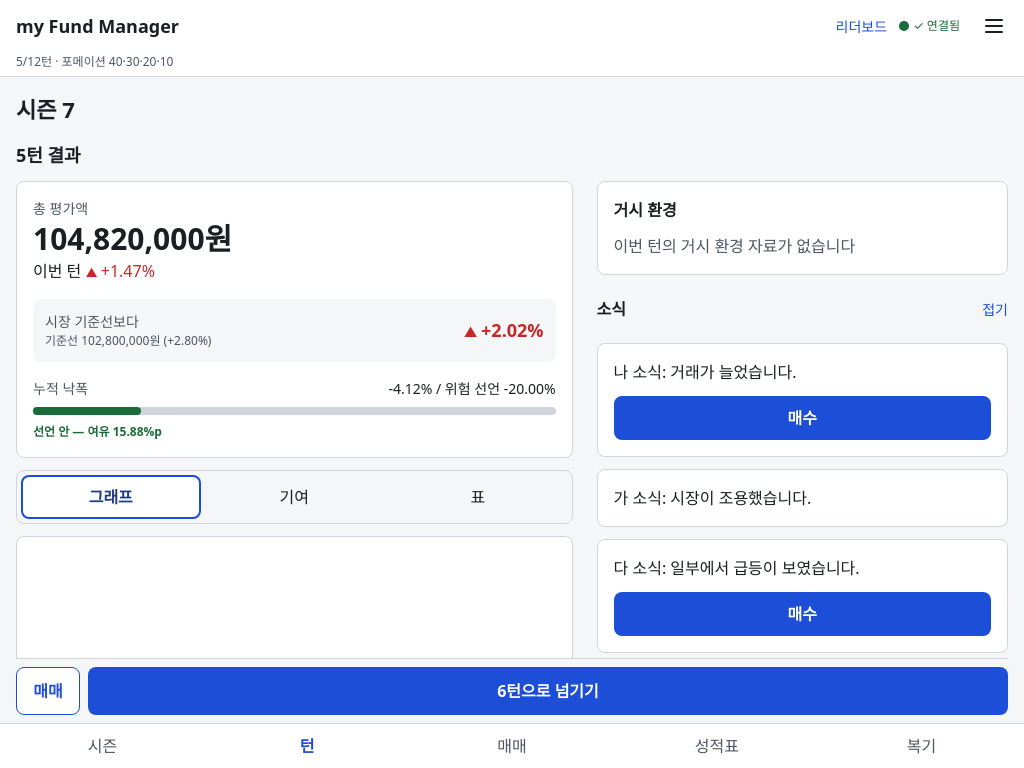
feed on the now page › lists the stored items in order and sends the tapped item as the source
This screenshot has width=1024, height=768.
Click the button with aria-label "종목 가 매수": {"x": 802, "y": 614} [614,592,991,636]
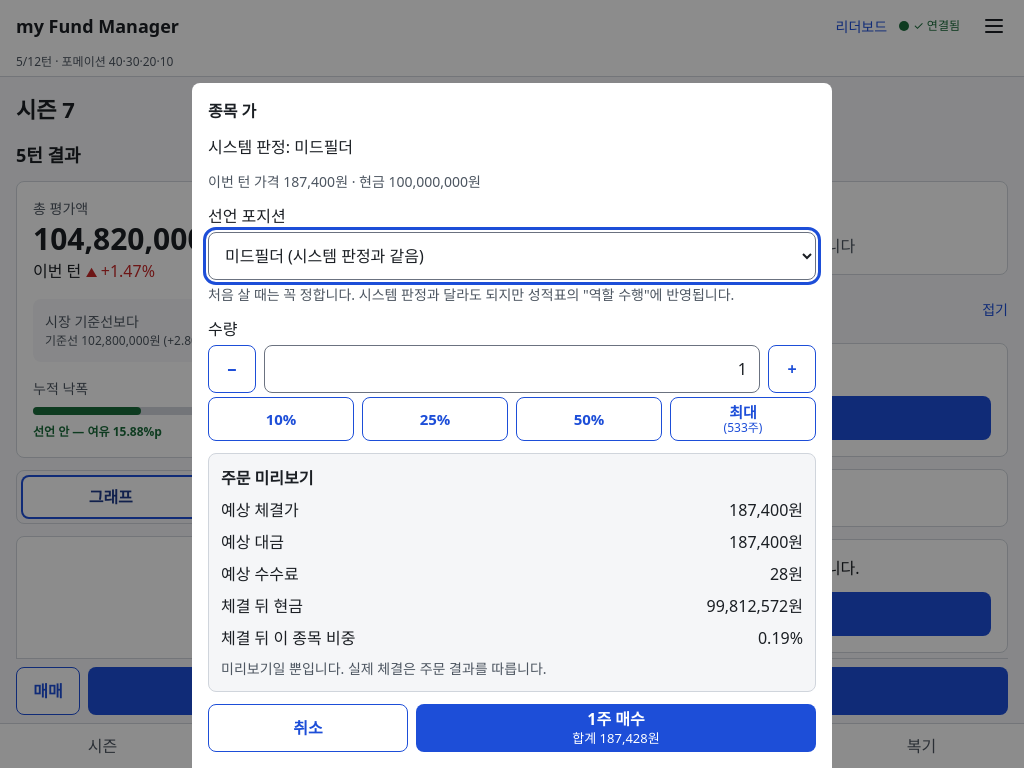
Click the button "1주 매수 합계 187,428원": {"x": 616, "y": 728} [416,704,816,752]
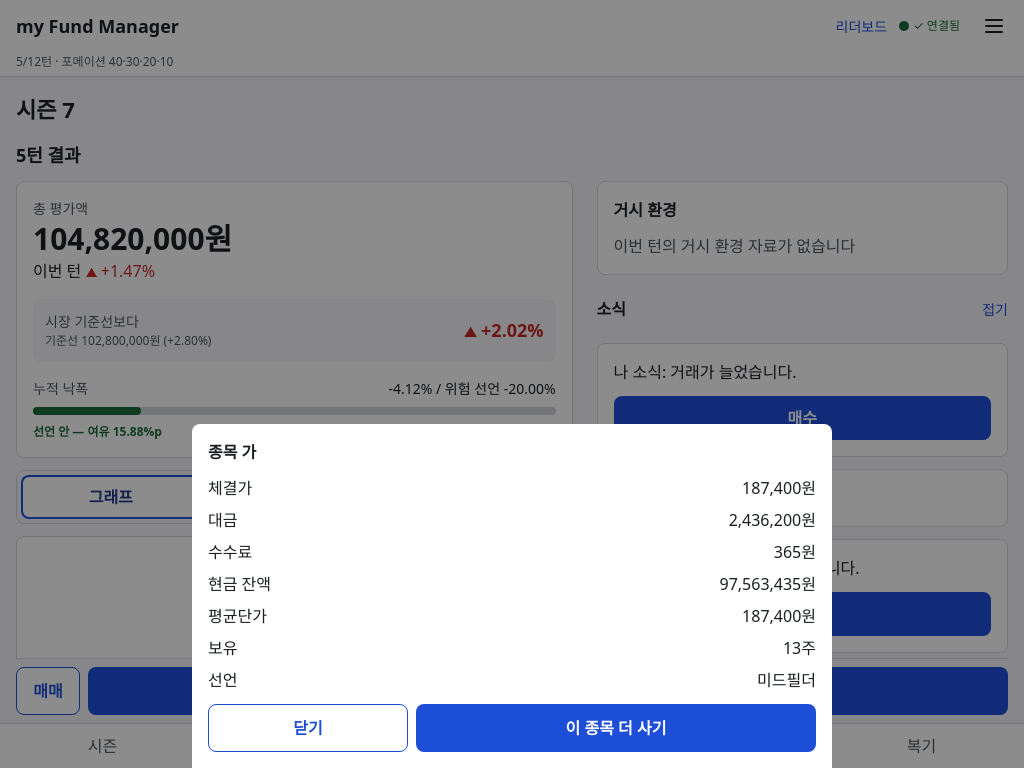
Expected: the text "체결가" is shown, [208,476,252,500]
Click the button "닫기": {"x": 308, "y": 728} [208,704,408,752]
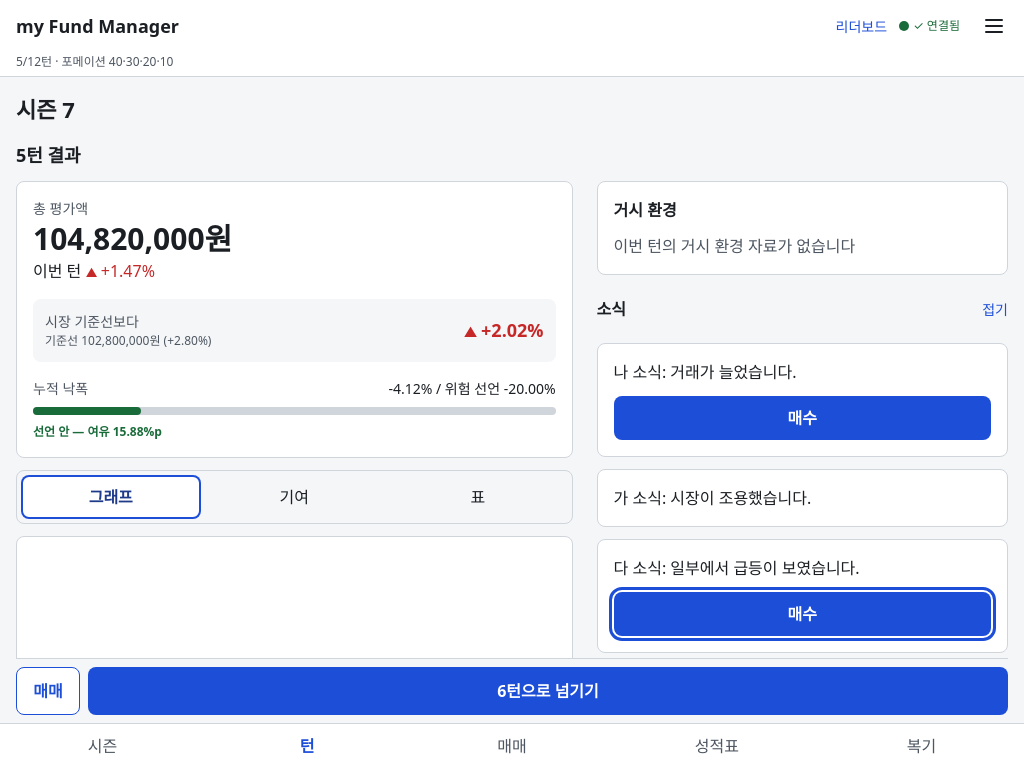
Expected: the dialog is gone
